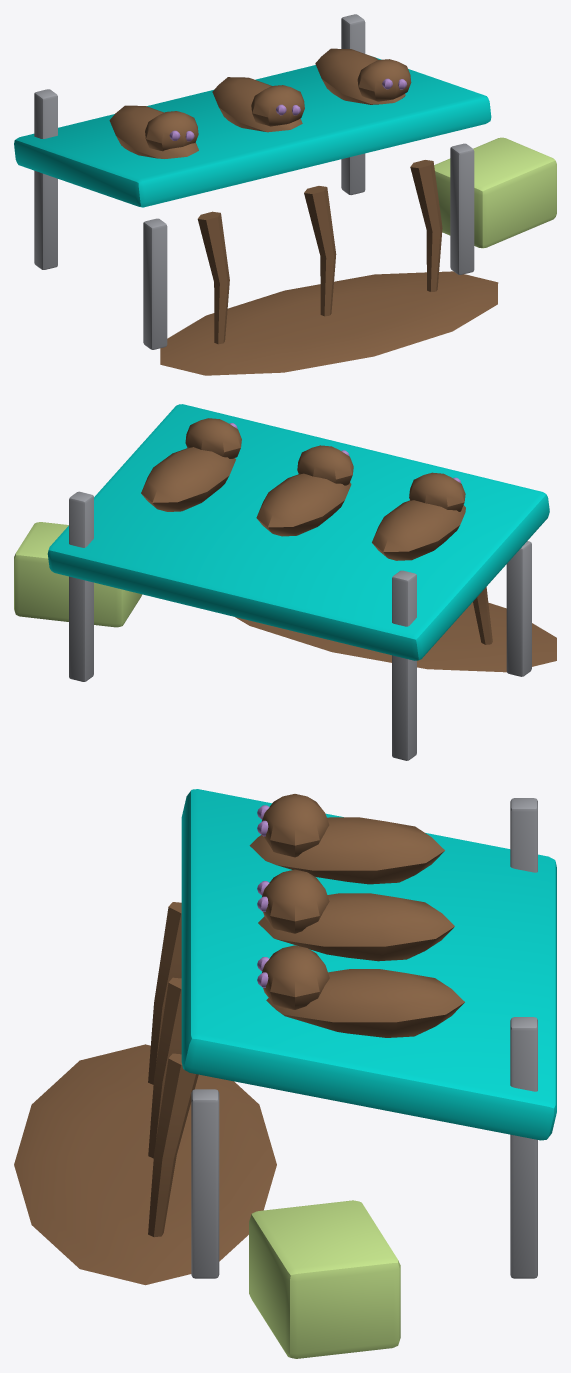
The model's file is TW_MeltedDollMold.fbx.
3 views of the same model, one above another, from view 1: azimuth 30°, elevation 25°; view 2: azimuth 150°, elevation 25°; view 3: azimuth 270°, elevation 25° (orthographic). The views are drawn at different scales.
Parts seen in each view (by area): view 1: Body; view 2: Body; view 3: Body.
Boxes of the visible parts, bbox=[...] form: Body: bbox=[14, 14, 556, 375]; Body: bbox=[14, 404, 556, 760]; Body: bbox=[14, 789, 556, 1358].
Size of the model in its own units: 3.85 by 1.66 by 2.72.
